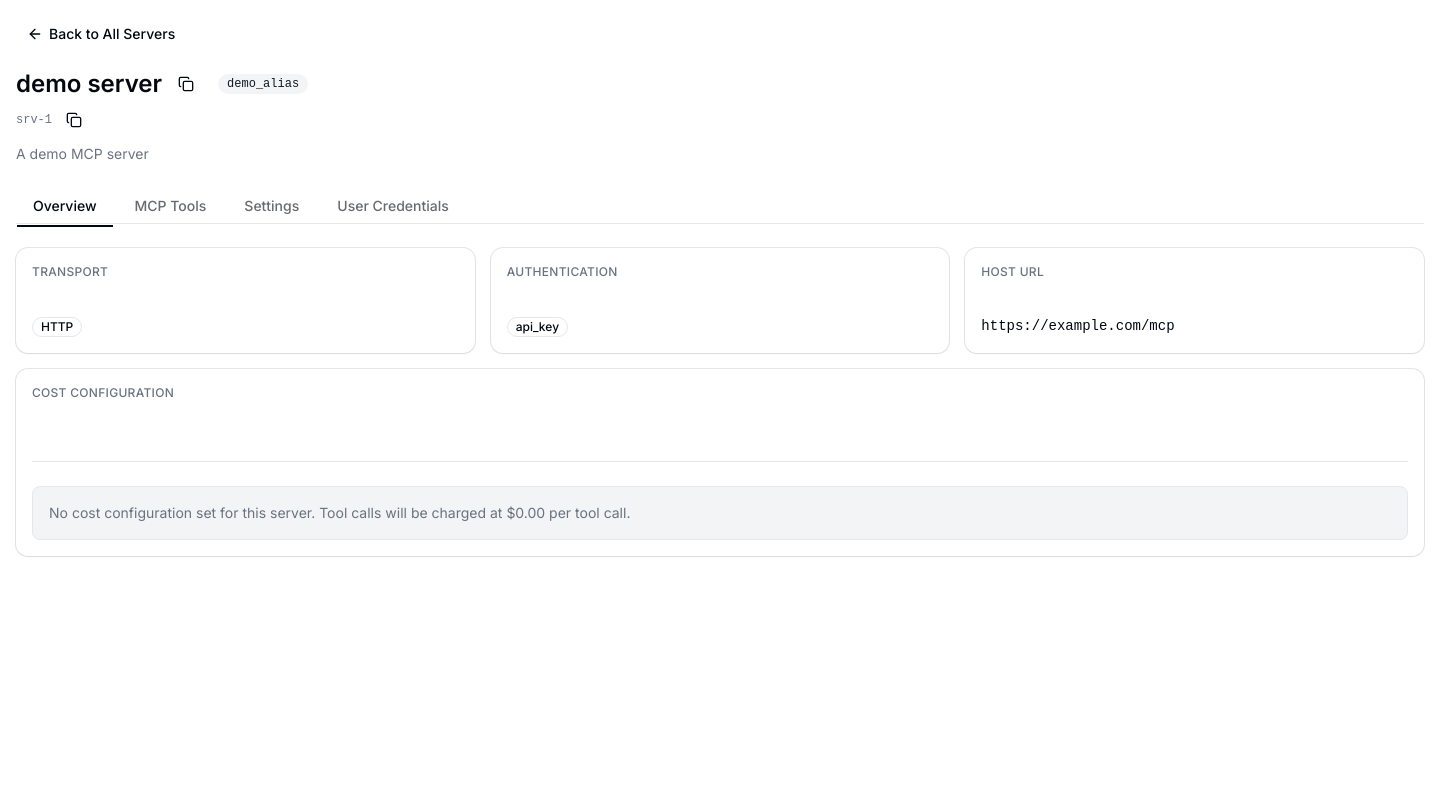
it: MCPServerView › does not open the editor for a view-only admin
Click the tab "Settings".
click(272, 206)  # box [227, 188, 316, 222]
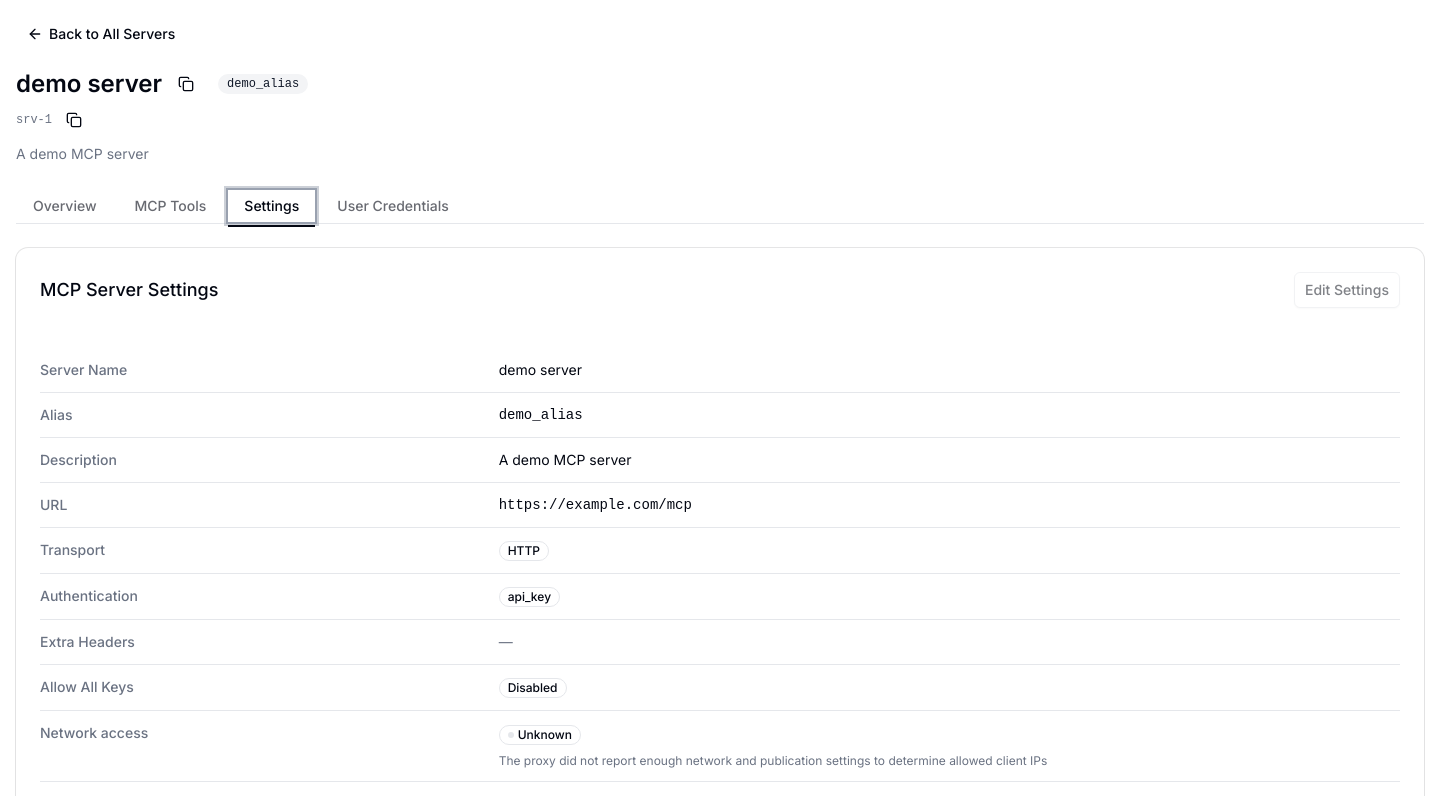
Expected: the button "Edit Settings" is disabled, [1294, 272, 1400, 308]
